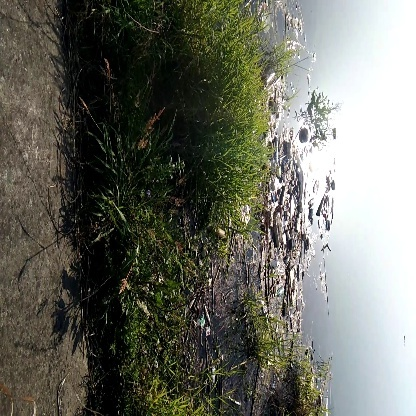grass: (194, 96, 262, 224)
